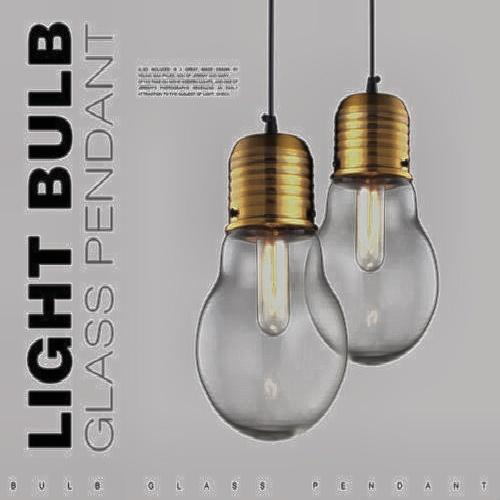lamp: (211, 77, 430, 447)
